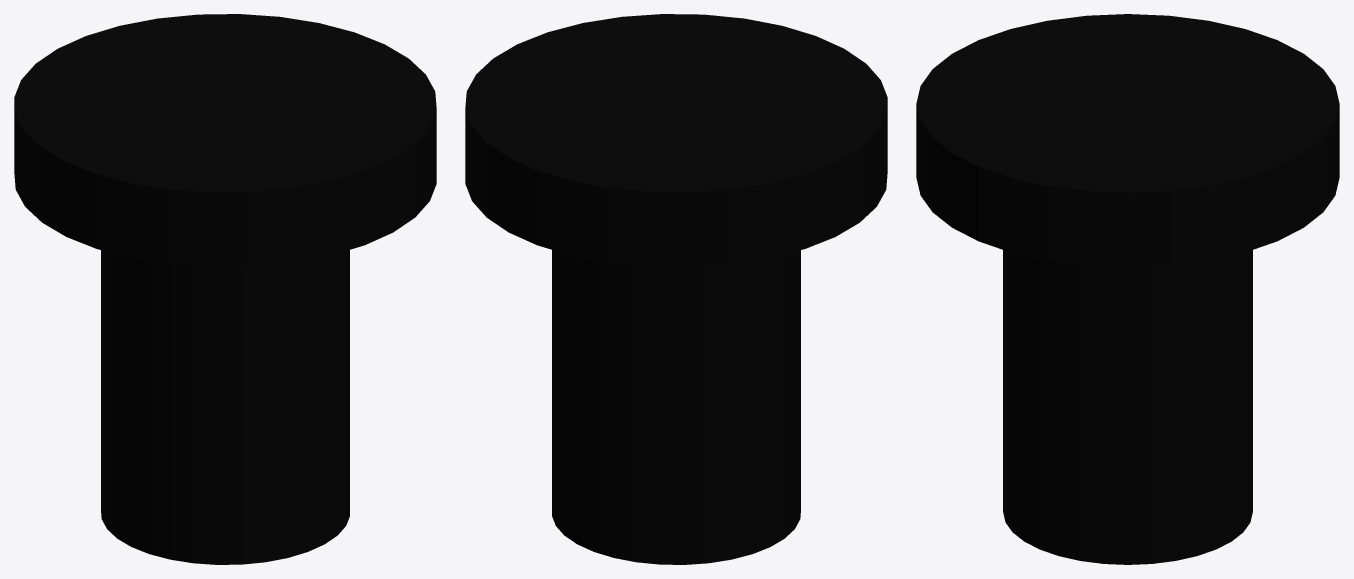
The picture shows the model from 3 angles, left to right: view 1: azimuth 30°, elevation 25°; view 2: azimuth 150°, elevation 25°; view 3: azimuth 270°, elevation 25°; orthographic projection.
Parts seen in each view (by area): view 1: Pipe.145; view 2: Pipe.145; view 3: Pipe.145.
Boxes of the visible parts, <box> form: Pipe.145: <box>14,14,436,564</box>; Pipe.145: <box>465,14,887,564</box>; Pipe.145: <box>916,14,1339,564</box>.
Bounding box in the file's own units: 45.36 × 48.37 × 45.36.
